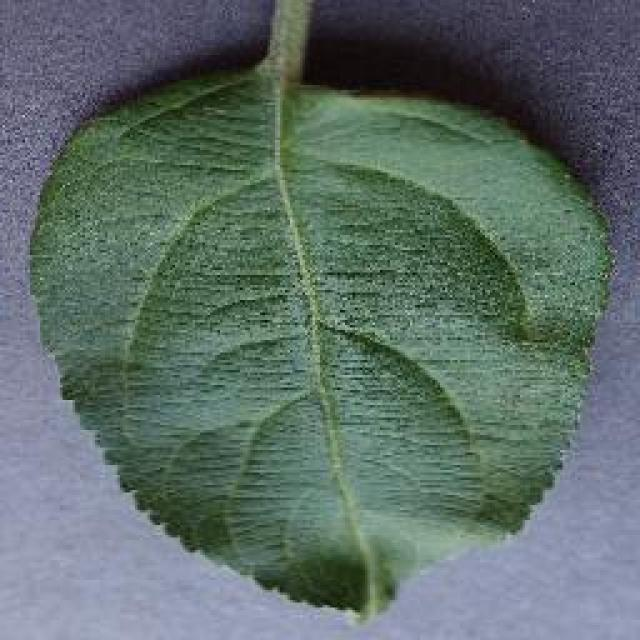apple healthy: (25, 0, 617, 625)
